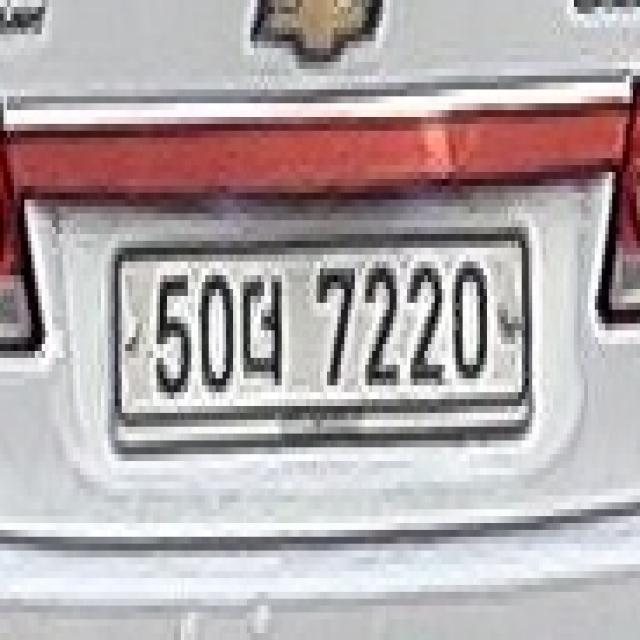0: (450, 244, 496, 388), (200, 270, 234, 392)
2: (406, 256, 444, 388), (362, 254, 398, 392)
5: (152, 269, 192, 397)
7: (313, 262, 358, 394)
deo: (240, 270, 286, 396)
license_plate: (108, 224, 530, 442)
